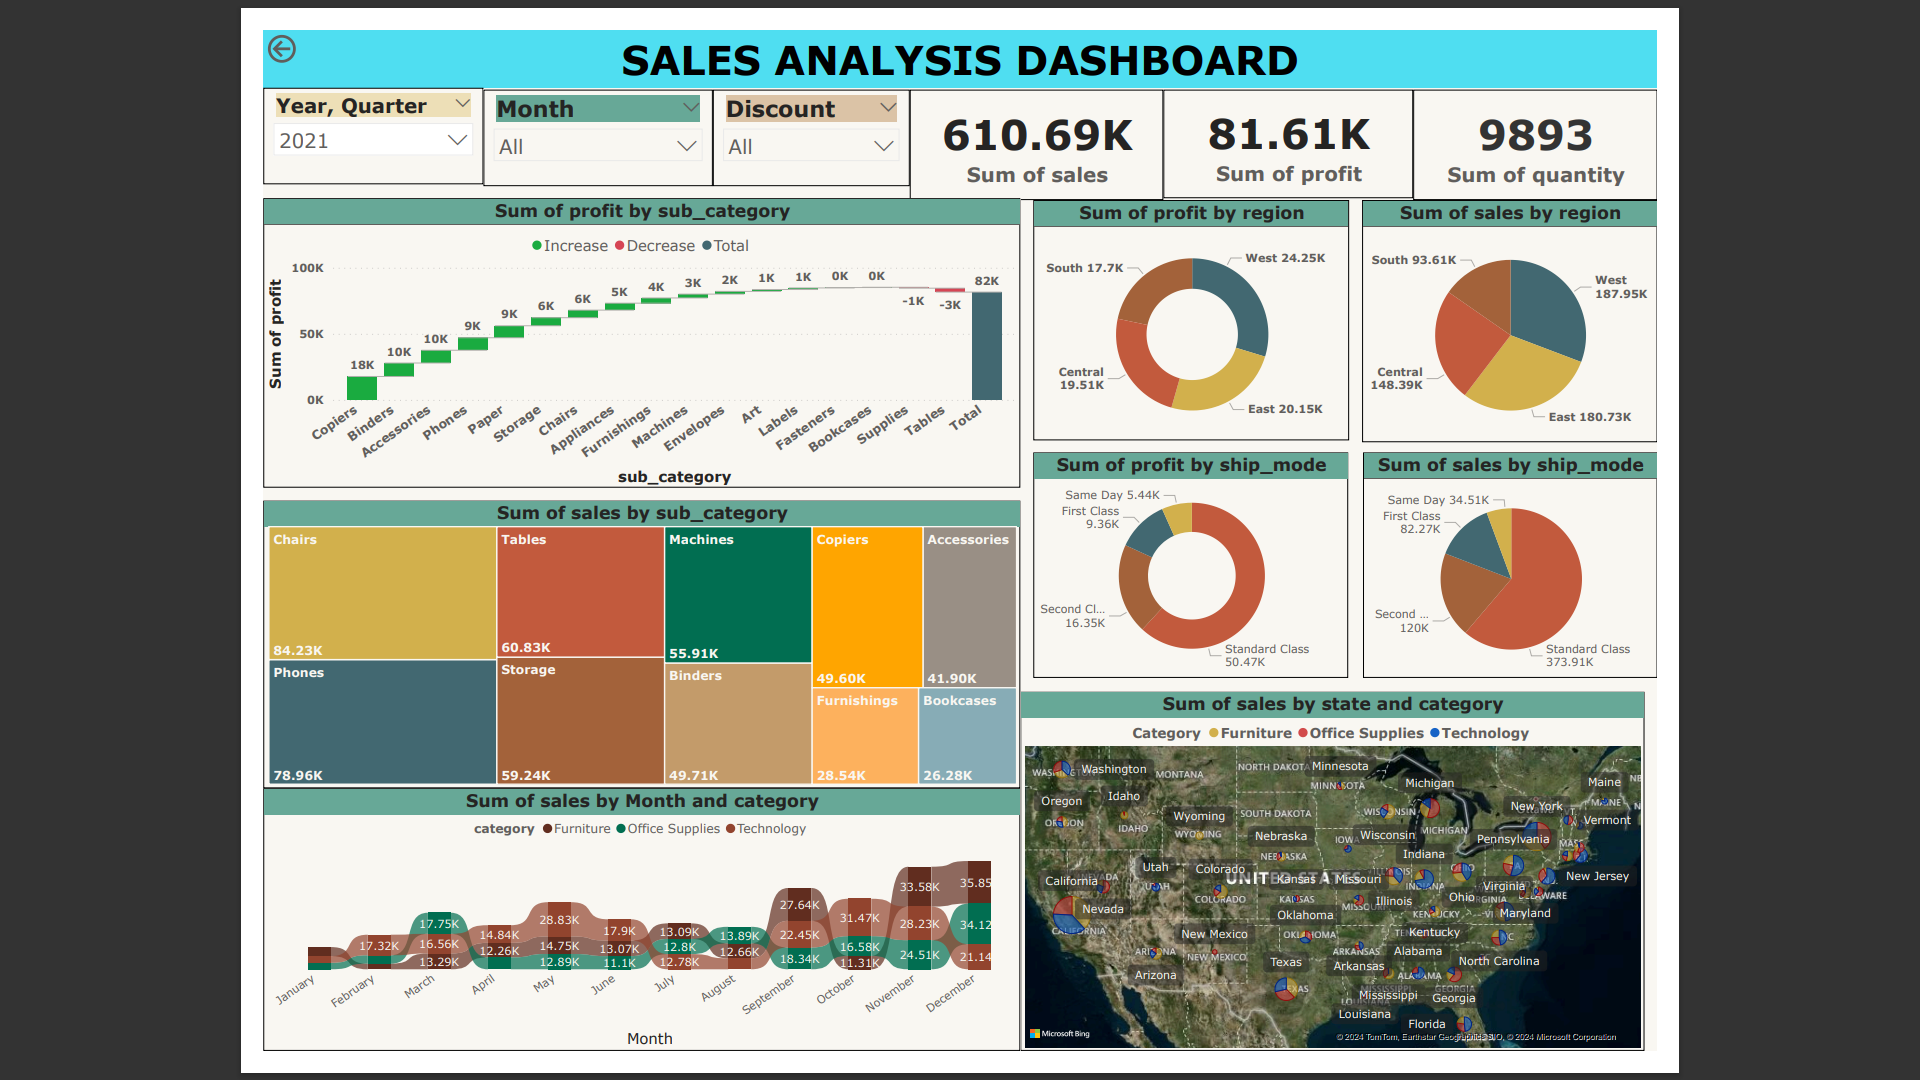

The dashboard page shown, as its layout file describes it:
{"tool":"powerbi","page":{"name":"Page 1","canvas":[1500,1100],"ordinal":0},"visuals":[{"type":"donutChart","fields":{"Y":["Sum(Table1.sales)"],"Category":["Table1.category"]},"box":[1559.4,227.6,241.4,201.8],"z":0},{"type":"card","fields":{"Values":["Sum(Table1.sales)"]},"box":[695.9,63.9,272.8,119.2],"z":1000},{"type":"textbox","box":[0,0,1500.6,62.2],"z":2000},{"type":"card","fields":{"Values":["Sum(Table1.profit)"]},"box":[968.8,63.9,269.4,117.4],"z":3000},{"type":"card","fields":{"Values":["Sum(Table1.quantity)"]},"box":[1238.1,63.9,262.5,119.2],"z":4000},{"type":"map","fields":{"Category":["Table1.state"],"Size":["Sum(Table1.sales)"],"Series":["Table1.category"]},"box":[815.2,712.9,671.9,387.1],"z":5000},{"type":"actionButton","box":[0,0,100,40],"z":6000},{"type":"ribbonChart","fields":{"Category":["Table1.order_date.Variation.Date Hierarchy.Month"],"Y":["Sum(Table1.sales)"],"Series":["Table1.category"]},"box":[0,816.9,815.2,283.1],"z":7000},{"type":"slicer","fields":{"Values":["Table1.order_date.Variation.Date Hierarchy.Year","Table1.order_date.Variation.Date Hierarchy.Quarter"]},"box":[0,62.2,236.6,103.6],"z":8000},{"type":"waterfallChart","fields":{"Category":["Table1.sub_category"],"Y":["Sum(Table1.profit)"]},"box":[0,180.8,815.2,312.1],"z":9000},{"type":"treemap","fields":{"Group":["Table1.sub_category"],"Values":["Sum(Table1.sales)"]},"box":[0,506.5,815.2,310.4],"z":10000},{"type":"donutChart","fields":{"Category":["Table1.region"],"Y":["Sum(Table1.profit)"]},"box":[828.9,183,340.2,259],"z":11000},{"type":"pieChart","fields":{"Category":["Table1.region"],"Y":["Sum(Table1.sales)"]},"box":[1182.9,183,317.7,260.8],"z":12000},{"type":"slicer","fields":{"Values":["Table1.discount"]},"box":[483.5,63.9,212.4,103.6],"z":13000},{"type":"slicer","fields":{"Values":["Table1.order_date.Variation.Date Hierarchy.Month"]},"box":[236.6,63.9,246.9,103.6],"z":14000},{"type":"donutChart","fields":{"Category":["Table1.ship_mode"],"Y":["Sum(Table1.profit)"]},"box":[828.8,455.3,339.4,242.2],"z":15000},{"type":"donutChart","fields":{"Y":["Sum(Table1.sales)"],"Category":["Table1.ship_mode"]},"box":[1183.6,455.3,317.2,242.2],"z":16000}]}

Visuals, with their boxes in screenshot pixels (x1, y1, x2, y2):
donutChart - Sum(Table1.sales) x Table1.category: locate(1740, 225, 1919, 421)
card - Sum(Table1.sales): locate(904, 67, 1168, 182)
textbox: locate(230, 5, 1683, 65)
card - Sum(Table1.profit): locate(1168, 67, 1429, 181)
card - Sum(Table1.quantity): locate(1429, 67, 1683, 182)
map - Table1.state x Sum(Table1.sales): locate(1019, 695, 1670, 1070)
actionButton: locate(230, 5, 327, 44)
ribbonChart - Table1.order_date.Variation.Date Hierarchy.Month x Sum(Table1.sales): locate(230, 796, 1019, 1070)
slicer - Table1.order_date.Variation.Date Hierarchy.Year x Table1.order_date.Variation.Date Hierarchy.Quarter: locate(230, 65, 459, 166)
waterfallChart - Table1.sub_category x Sum(Table1.profit): locate(230, 180, 1019, 482)
treemap - Table1.sub_category x Sum(Table1.sales): locate(230, 495, 1019, 796)
donutChart - Table1.region x Sum(Table1.profit): locate(1033, 182, 1362, 433)
pieChart - Table1.region x Sum(Table1.sales): locate(1375, 182, 1683, 435)
slicer - Table1.discount: locate(698, 67, 904, 167)
slicer - Table1.order_date.Variation.Date Hierarchy.Month: locate(459, 67, 698, 167)
donutChart - Table1.ship_mode x Sum(Table1.profit): locate(1032, 446, 1361, 680)
donutChart - Sum(Table1.sales) x Table1.ship_mode: locate(1376, 446, 1683, 680)
